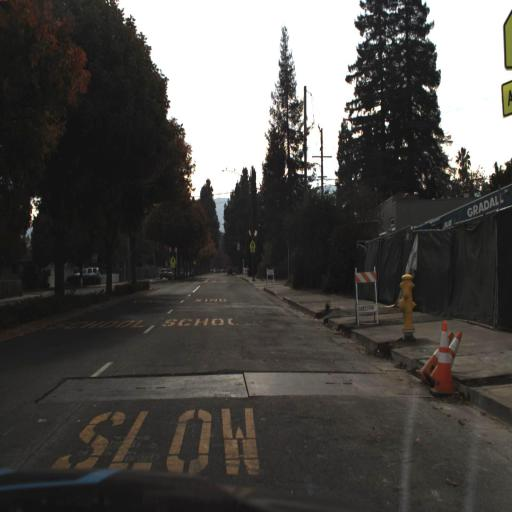car: (71, 261, 106, 284)
